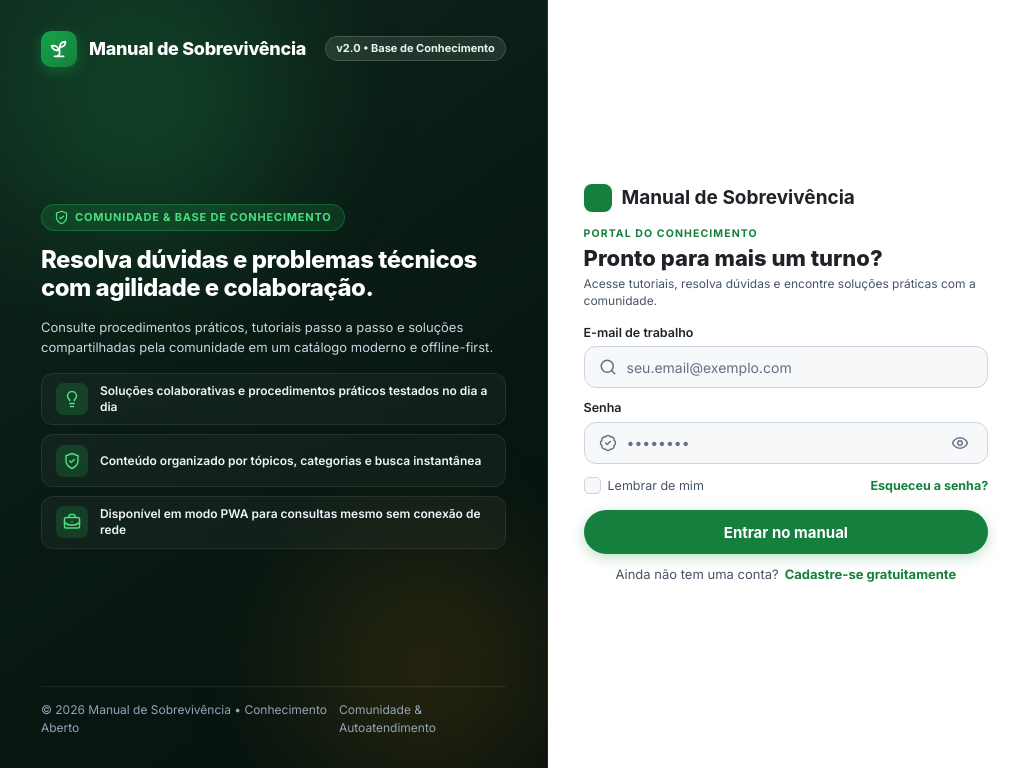
Test: Login Page › exibe mensagem de erro quando a API rejeita as credenciais
Type "errado@empresa.com" into the field labelled "E-mail de trabalho".
click(800, 367); type("errado@empresa.com")  # box [626,359,973,376]
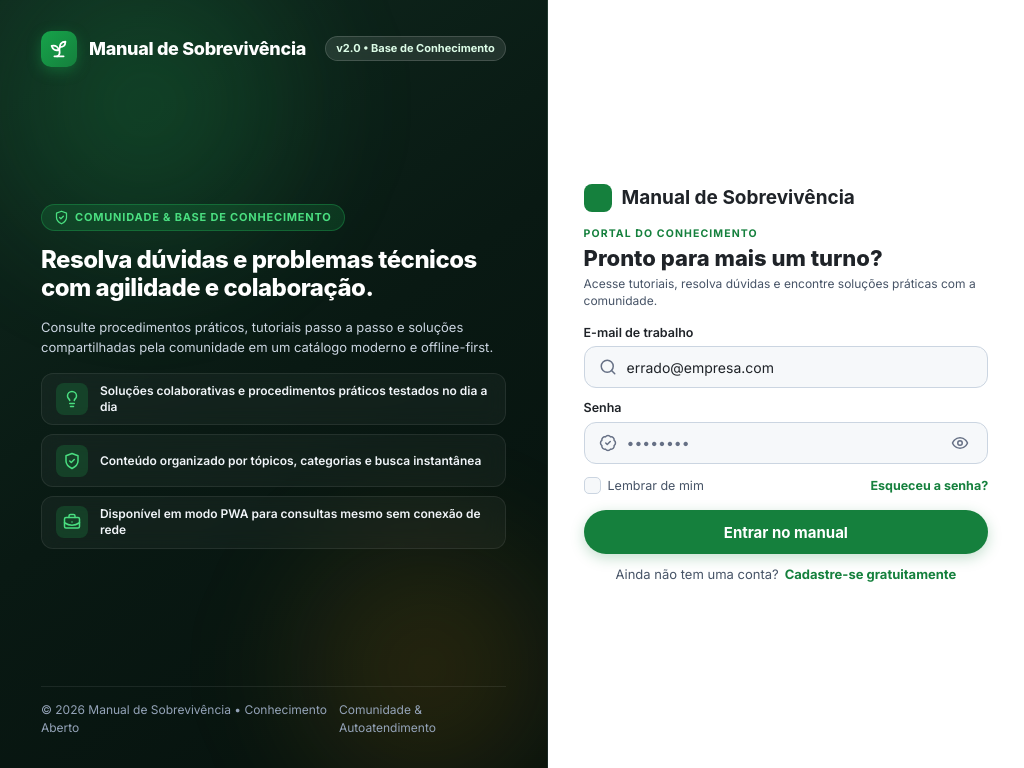
Type "errada" into the password field labelled "Senha".
click(782, 443); type("errada")  # box [626,434,937,451]
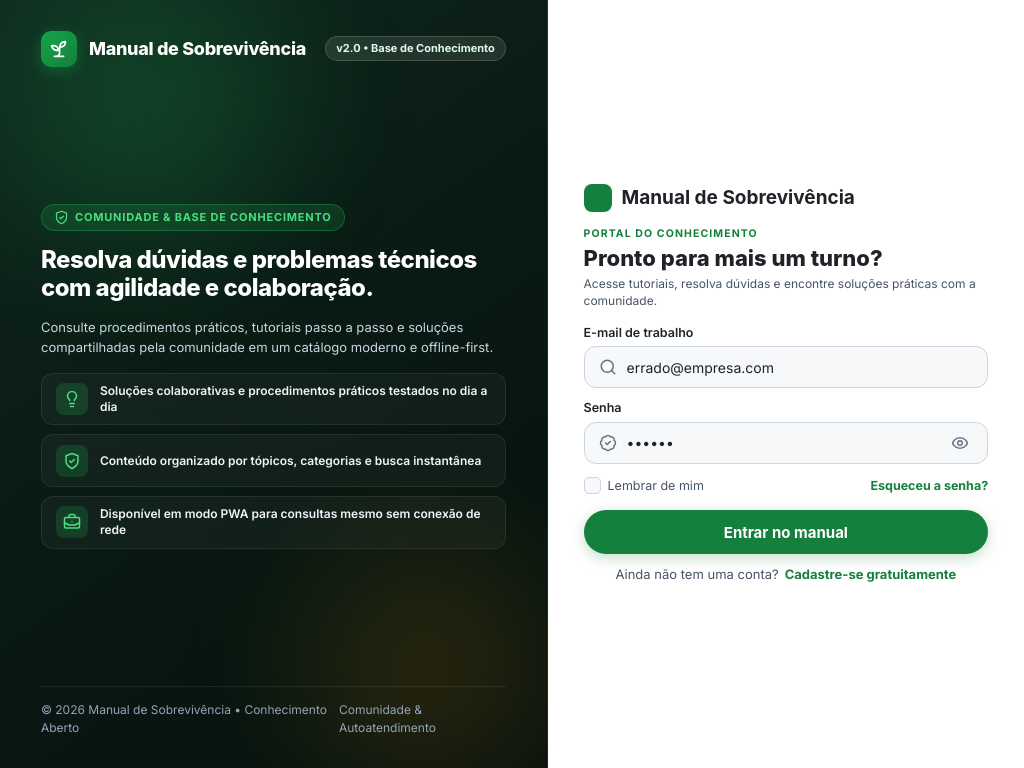
Click the button "Entrar no manual".
click(786, 532)  # box [584,510,988,554]
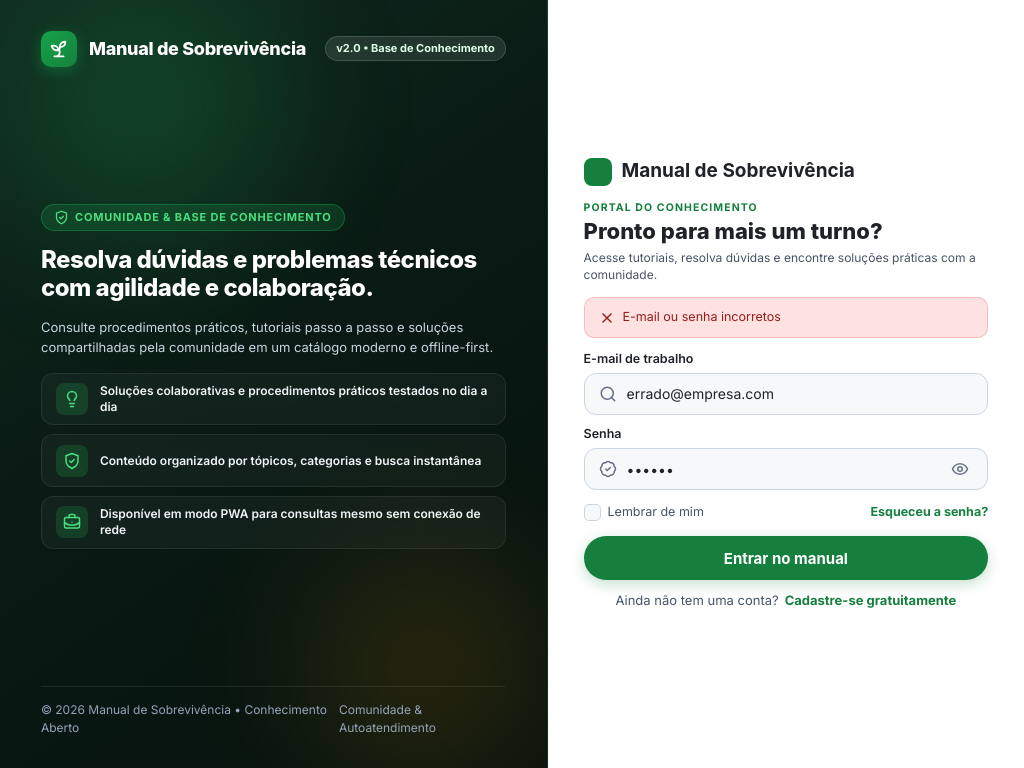
Result: the text "E-mail ou senha incorretos" is shown at [622,308,781,327]
